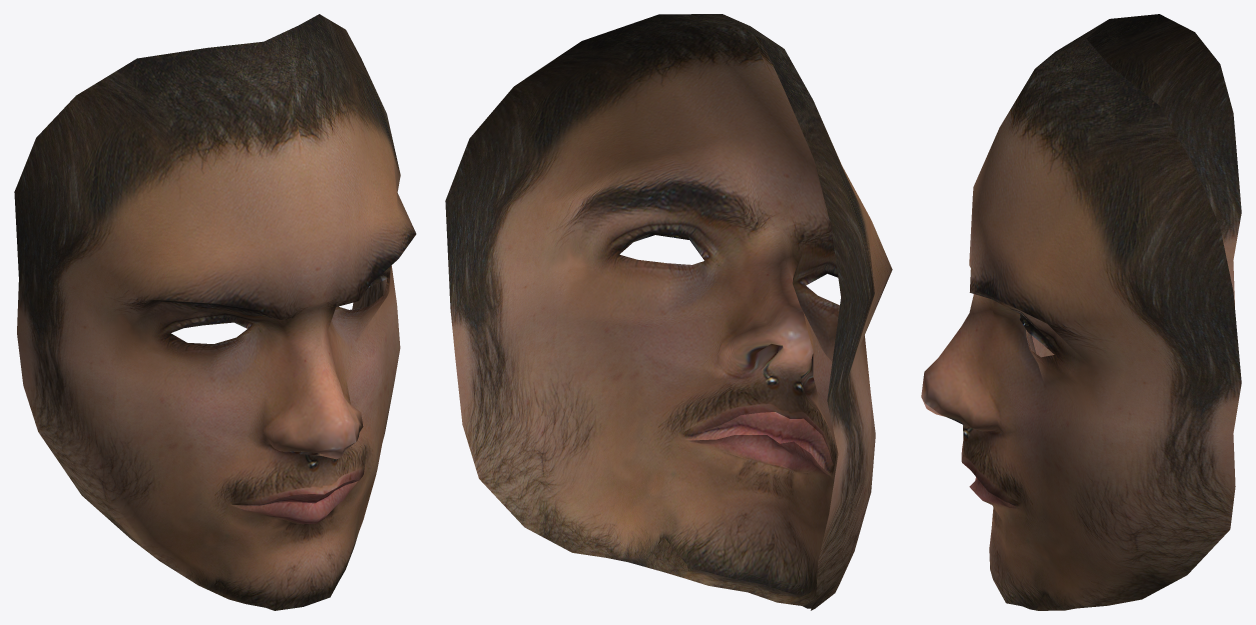
Rendered from Careto.FBX.
The picture shows the model from 3 angles, left to right: view 1: azimuth 30°, elevation 25°; view 2: azimuth 150°, elevation 25°; view 3: azimuth 270°, elevation 25°; orthographic projection. The views are drawn at different scales.
Parts seen in each view (by area): view 1: Plane003; view 2: Plane003; view 3: Plane003.
Boxes of the visible parts, box(x1,y1,x2,y2) form: Plane003: box(14, 14, 416, 610); Plane003: box(445, 14, 892, 610); Plane003: box(921, 14, 1241, 610).
Bounding box in the file's own units: 94.42 × 136 × 71.43.
